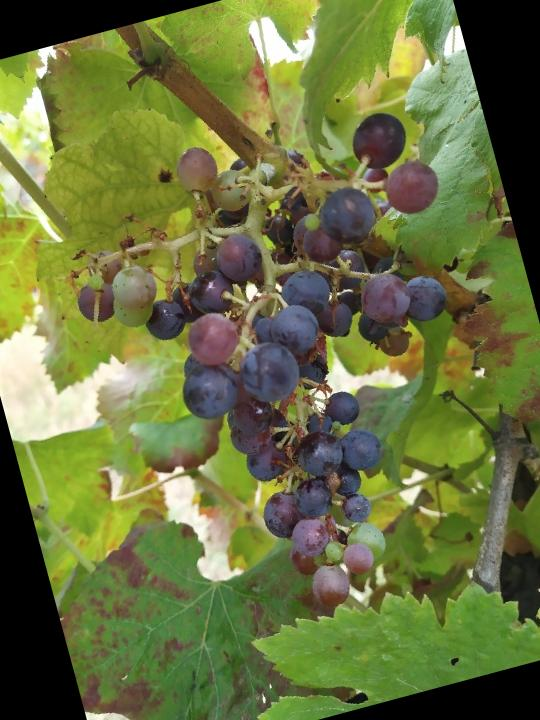grape: (44, 91, 539, 651)
